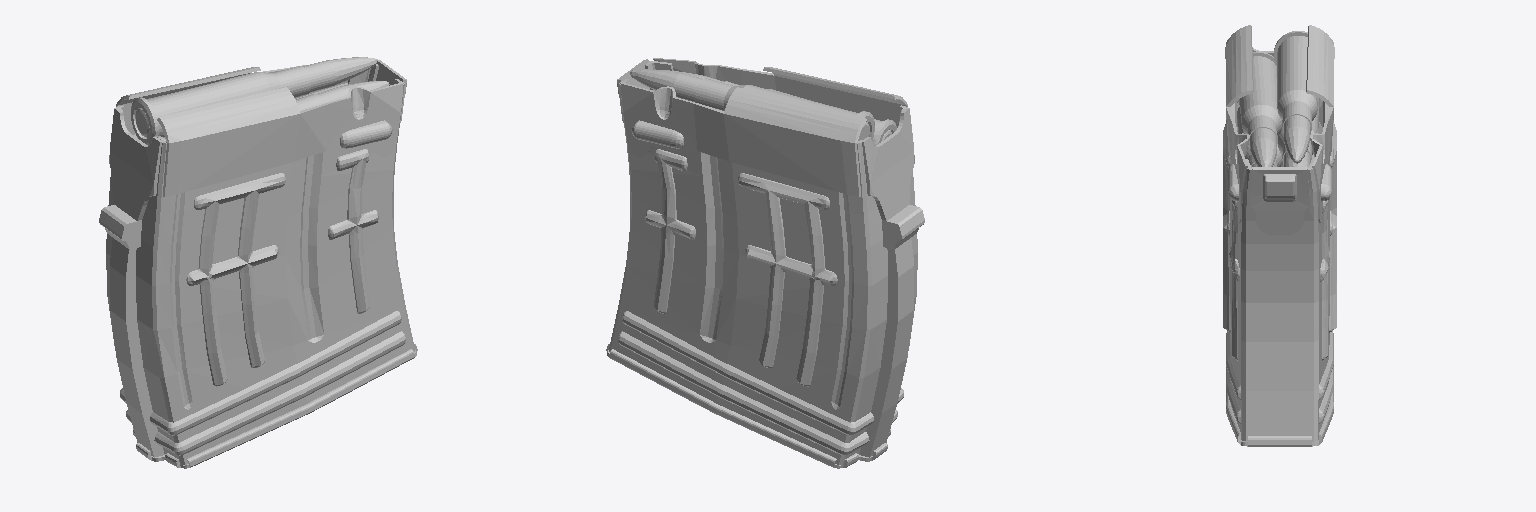
File: magazine SVD.obj
The picture shows the model from 3 angles: view 1: azimuth 30°, elevation 25°; view 2: azimuth 150°, elevation 25°; view 3: azimuth 270°, elevation 25°; orthographic projection.
Visible parts, largest first — view 1: magazine_low_Circle.037, magazine_top_low_Circle.040, magazine_flot.001_low_Circle.019, magazine_back_low_Plane.015, cartridge.001_low.001_Circle.044, magazine_flot.004_low_Cylinder.033, magazine_flot.003_low_Cylinder.032, magazine_flot.002_low_Circle.020, magazine_bottom_low_Circle.018, bullet.001_low.001_Cylinder.040, magazine_stop_low_Cylinder.034, bullet.002_low.001_Cylinder.041; view 2: magazine_low_Circle.037, magazine_top_low_Circle.040, magazine_flot.001_low_Circle.019, magazine_back_low_Plane.015, magazine_flot.004_low_Cylinder.033, magazine_flot.003_low_Cylinder.032, magazine_flot.002_low_Circle.020, magazine_bottom_low_Circle.018, cartridge.001_low.001_Circle.044, bullet.001_low.001_Cylinder.040, magazine_stop_low_Cylinder.034; view 3: magazine_low_Circle.037, magazine_top_low_Circle.040, magazine_front_low_Plane.016, cartridge.001_low.001_Circle.044, magazine_flot.001_low_Circle.019, cartridge.002_low.001_Circle.043, magazine_flot.002_low_Circle.020, magazine_bottom_low_Circle.018, bullet.001_low.001_Cylinder.040, bullet.002_low.001_Cylinder.041, magazine_flot.003_low_Cylinder.032, magazine_stop_low_Cylinder.034 (+1 smaller).
Part boxes in pixels (x1,y1,x2,y2): magazine_low_Circle.037: (106, 64, 414, 464); magazine_top_low_Circle.040: (116, 65, 403, 196); magazine_flot.001_low_Circle.019: (186, 173, 285, 386); magazine_back_low_Plane.015: (99, 108, 162, 249); cartridge.001_low.001_Circle.044: (131, 66, 310, 144); magazine_flot.004_low_Cylinder.033: (126, 331, 405, 455); magazine_flot.003_low_Cylinder.032: (120, 311, 401, 435); magazine_flot.002_low_Circle.020: (328, 149, 378, 313); magazine_bottom_low_Circle.018: (133, 344, 417, 468); bullet.001_low.001_Cylinder.040: (303, 57, 376, 91); magazine_stop_low_Cylinder.034: (340, 120, 392, 148); bullet.002_low.001_Cylinder.041: (317, 81, 389, 103); magazine_low_Circle.037: (609, 61, 917, 464); magazine_top_low_Circle.040: (620, 58, 907, 196); magazine_flot.001_low_Circle.019: (738, 173, 837, 386); magazine_back_low_Plane.015: (861, 108, 924, 249); magazine_flot.004_low_Cylinder.033: (618, 331, 897, 455); magazine_flot.003_low_Cylinder.032: (622, 311, 903, 435); magazine_flot.002_low_Circle.020: (645, 149, 695, 313); magazine_bottom_low_Circle.018: (606, 344, 890, 468); cartridge.001_low.001_Circle.044: (695, 78, 874, 140); bullet.001_low.001_Cylinder.040: (630, 69, 702, 102); magazine_stop_low_Cylinder.034: (631, 120, 683, 148); magazine_low_Circle.037: (1230, 100, 1329, 441); magazine_top_low_Circle.040: (1225, 25, 1334, 222); magazine_front_low_Plane.016: (1250, 167, 1309, 234); cartridge.001_low.001_Circle.044: (1273, 31, 1317, 132); magazine_flot.001_low_Circle.019: (1223, 120, 1336, 332); cartridge.002_low.001_Circle.043: (1239, 51, 1281, 145); magazine_flot.002_low_Circle.020: (1229, 200, 1330, 360); magazine_bottom_low_Circle.018: (1226, 390, 1333, 446); bullet.001_low.001_Cylinder.040: (1284, 115, 1310, 163); bullet.002_low.001_Cylinder.041: (1250, 128, 1276, 166); magazine_flot.003_low_Cylinder.032: (1226, 331, 1333, 399); magazine_stop_low_Cylinder.034: (1228, 164, 1331, 201).
Size of the model in its own units: 0.0967 by 0.1122 by 0.0328.